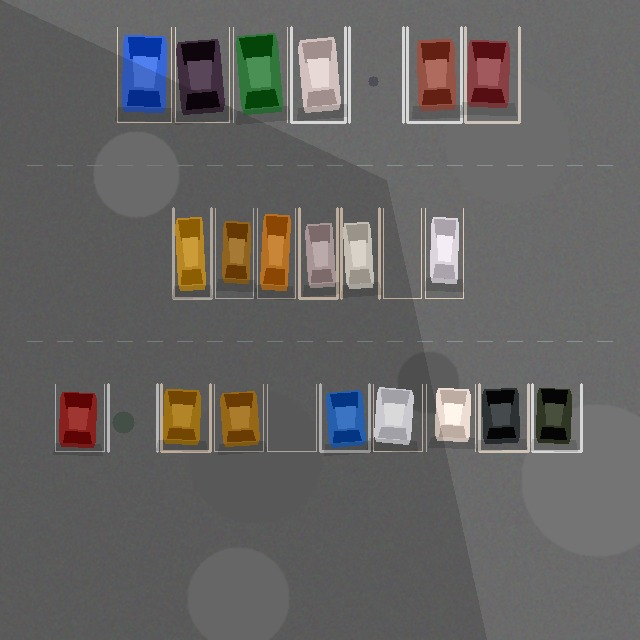space-empty: (349, 27, 403, 122), (383, 208, 421, 298), (108, 384, 157, 451), (267, 384, 316, 451)
space-occupied: (117, 27, 171, 122), (175, 27, 229, 122), (233, 27, 287, 122), (291, 27, 345, 122), (407, 27, 461, 122), (465, 27, 519, 122), (173, 208, 211, 298), (215, 208, 253, 298), (257, 208, 295, 298), (299, 208, 337, 298), (341, 208, 379, 298), (425, 208, 463, 298), (55, 384, 104, 451), (161, 384, 210, 451), (214, 384, 263, 451), (320, 384, 369, 451), (373, 384, 422, 451), (426, 384, 475, 451), (479, 384, 528, 451), (532, 384, 581, 451)
